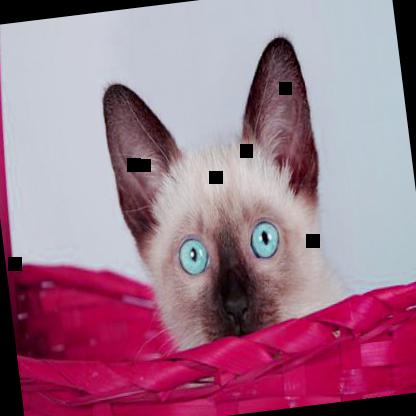cat: (96, 32, 336, 355)
